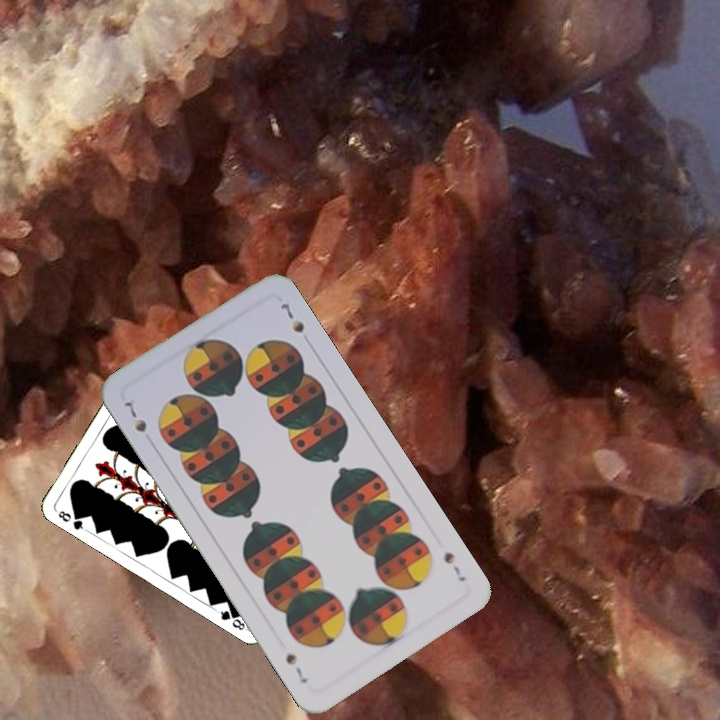G8: (53, 506, 89, 534)
S7: (120, 394, 150, 435), (439, 548, 469, 585)
